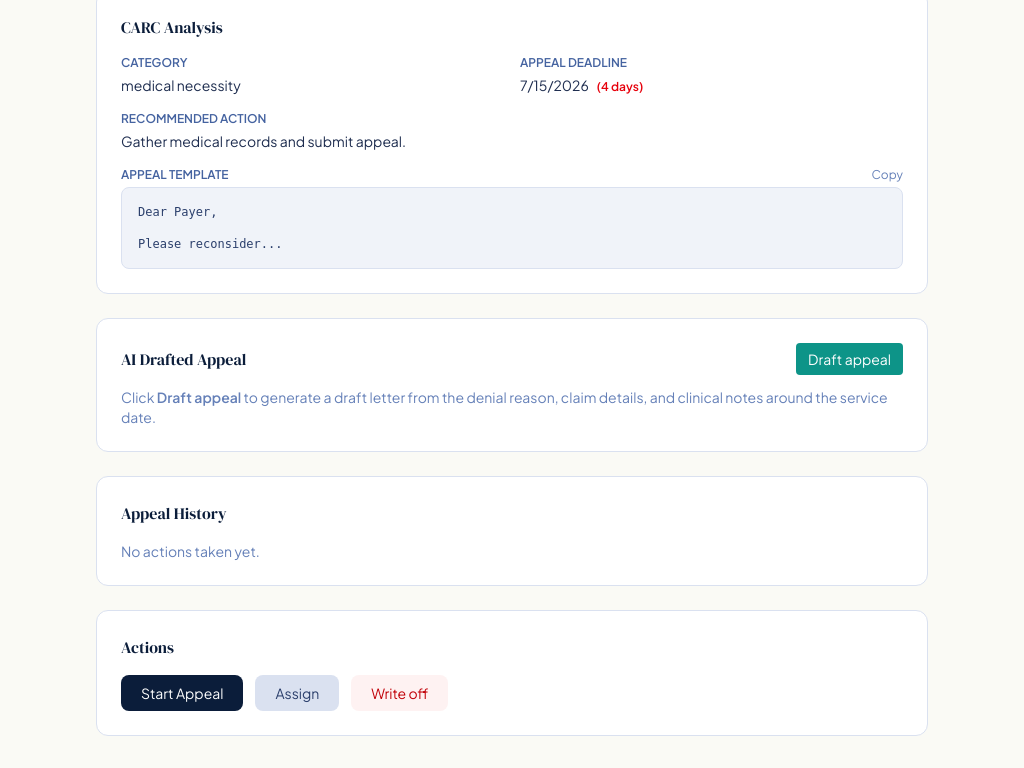
Test: DenialDetail › opens action modal when primary action clicked (status=new -> appeal)
(page scrolled)
Click the button "Start Appeal".
click(182, 693)  # box [121,675,243,711]
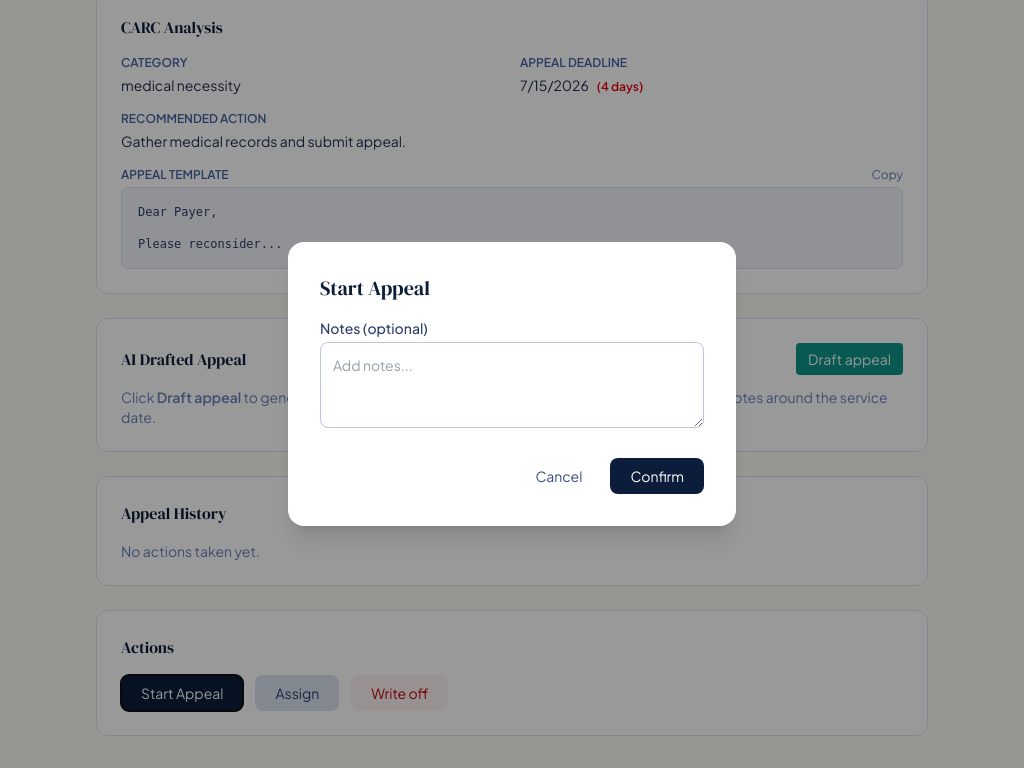
expect the dialog "Start Appeal Notes (optional) Cancel Confirm" is shown: met
